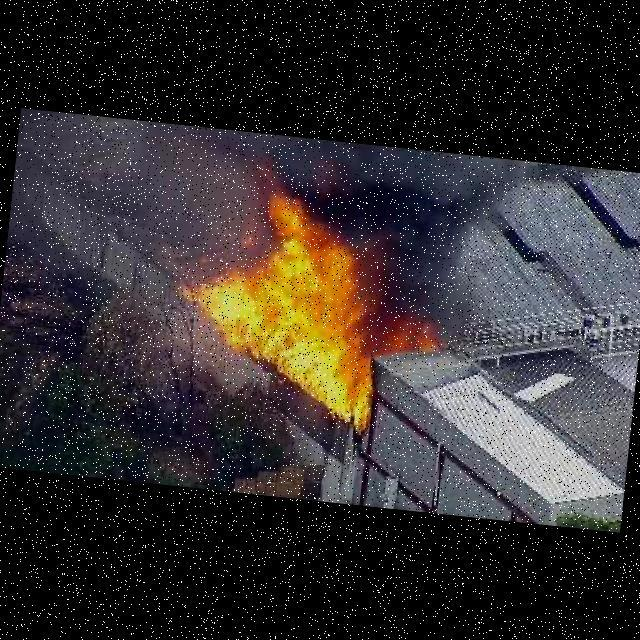Fire: (166, 180, 399, 435), (391, 312, 441, 357)
Smoke: (116, 106, 532, 342)
